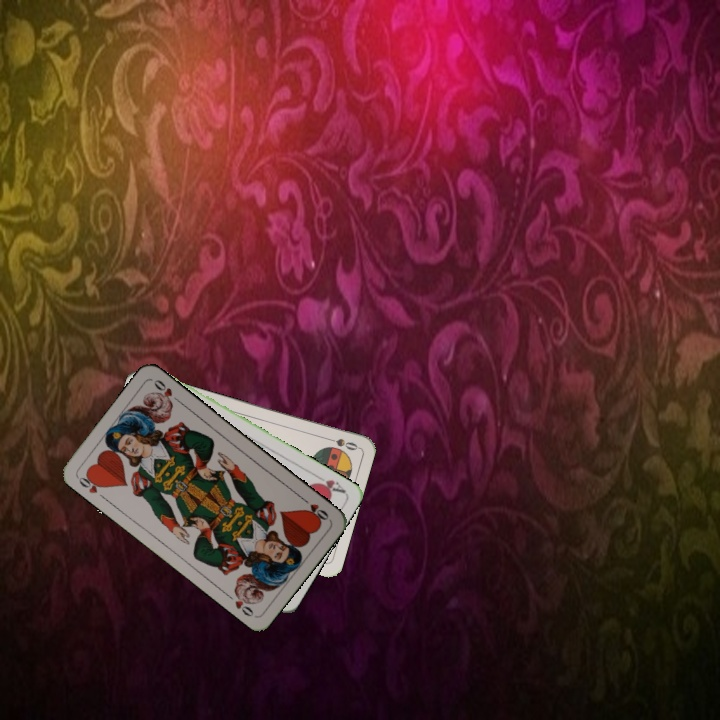HA: (310, 470, 348, 496)
HO: (74, 469, 108, 502), (297, 493, 331, 524)
SO: (320, 433, 360, 453)
